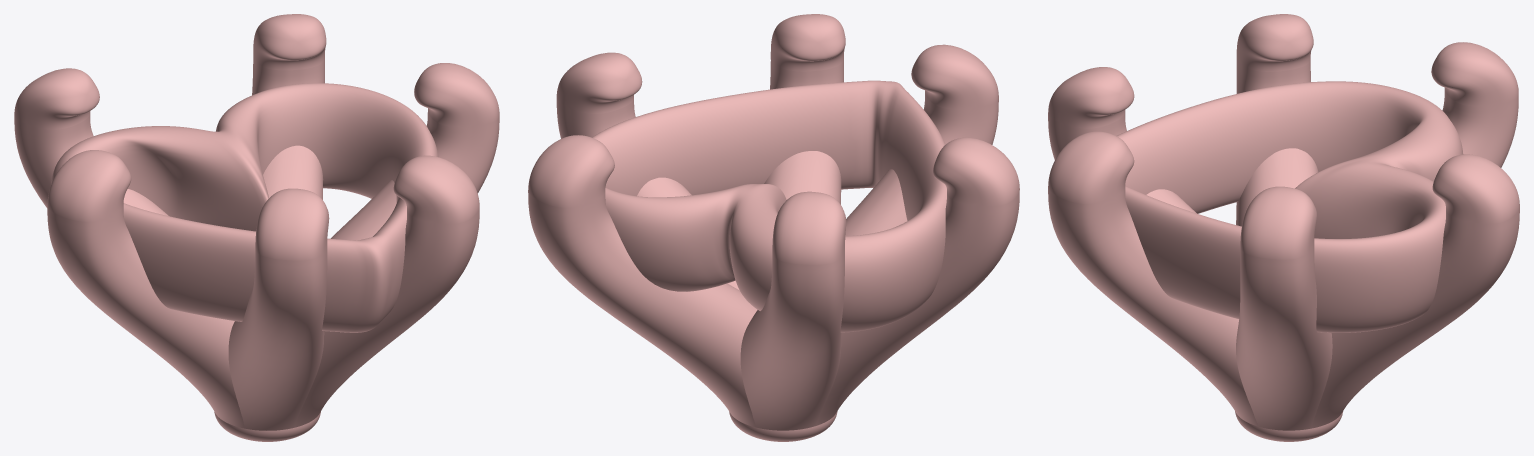
File: HEART.glb
The picture shows the model from 3 angles, left to right: view 1: azimuth 30°, elevation 25°; view 2: azimuth 150°, elevation 25°; view 3: azimuth 270°, elevation 25°; orthographic projection.
Visible parts, largest first — view 1: heart.001; view 2: heart.001; view 3: heart.001.
Boxes of the visible parts, x1,y1,x2,y2 form: heart.001: [14, 14, 499, 441]; heart.001: [528, 14, 1019, 441]; heart.001: [1048, 14, 1519, 441].
Size of the model in its own units: 6.19 by 4.3 by 5.64.
